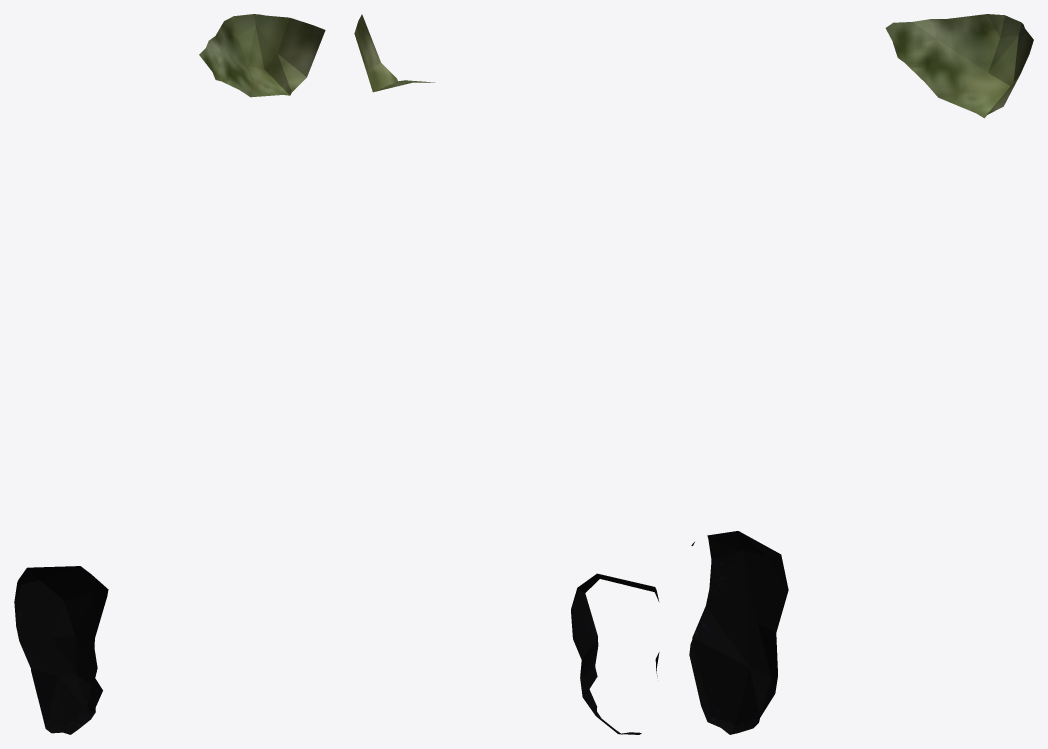
The picture shows the model from 3 angles, left to right: view 1: azimuth 30°, elevation 25°; view 2: azimuth 150°, elevation 25°; view 3: azimuth 330°, elevation 25°; orthographic projection. The views are drawn at different scales.
Size of the model in its own units: 1.24 by 2.62 by 0.2748.
1 material, 1 textured.
